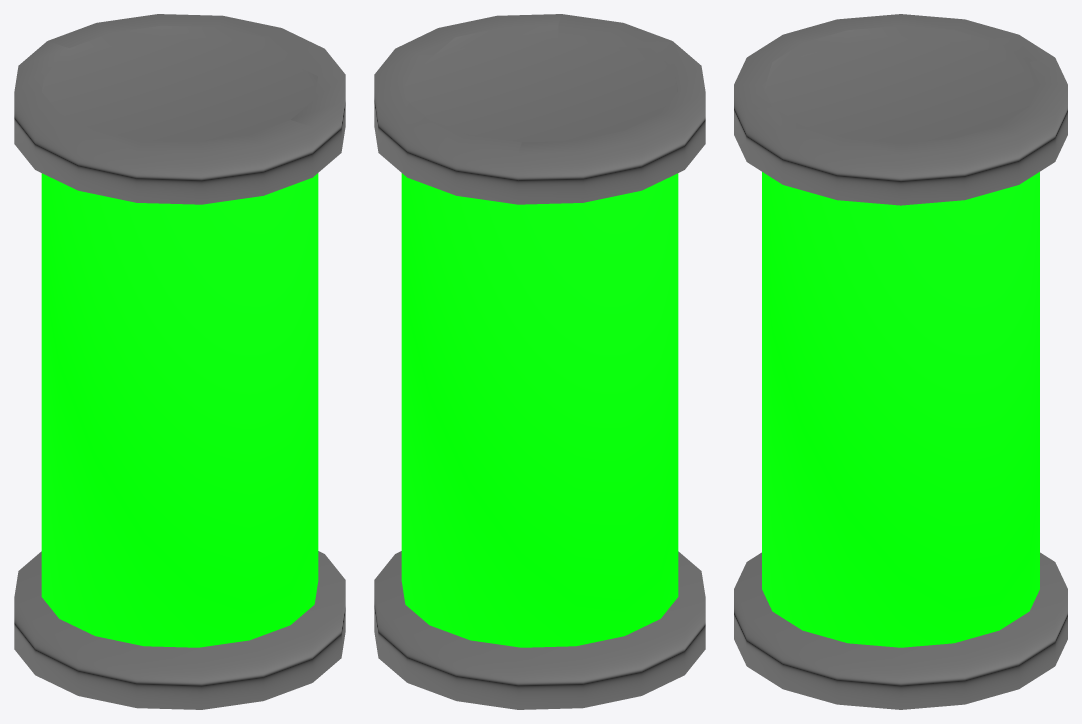
File: powercell.fbx
The picture shows the model from 3 angles, left to right: view 1: azimuth 30°, elevation 25°; view 2: azimuth 150°, elevation 25°; view 3: azimuth 270°, elevation 25°; orthographic projection.
Parts seen in each view (by area): view 1: CellCore, TopCap, BottomCap; view 2: CellCore, TopCap, BottomCap; view 3: CellCore, TopCap, BottomCap.
Part boxes in pixels (x1,y1,x2,y2): CellCore: (41, 173, 318, 647); TopCap: (14, 14, 345, 204); BottomCap: (14, 551, 345, 709); CellCore: (401, 173, 678, 647); TopCap: (374, 14, 705, 204); BottomCap: (374, 551, 705, 709); CellCore: (762, 172, 1039, 647); TopCap: (734, 14, 1067, 205); BottomCap: (734, 552, 1067, 709).
Bounding box in the file's own units: 12 × 22 × 12.
